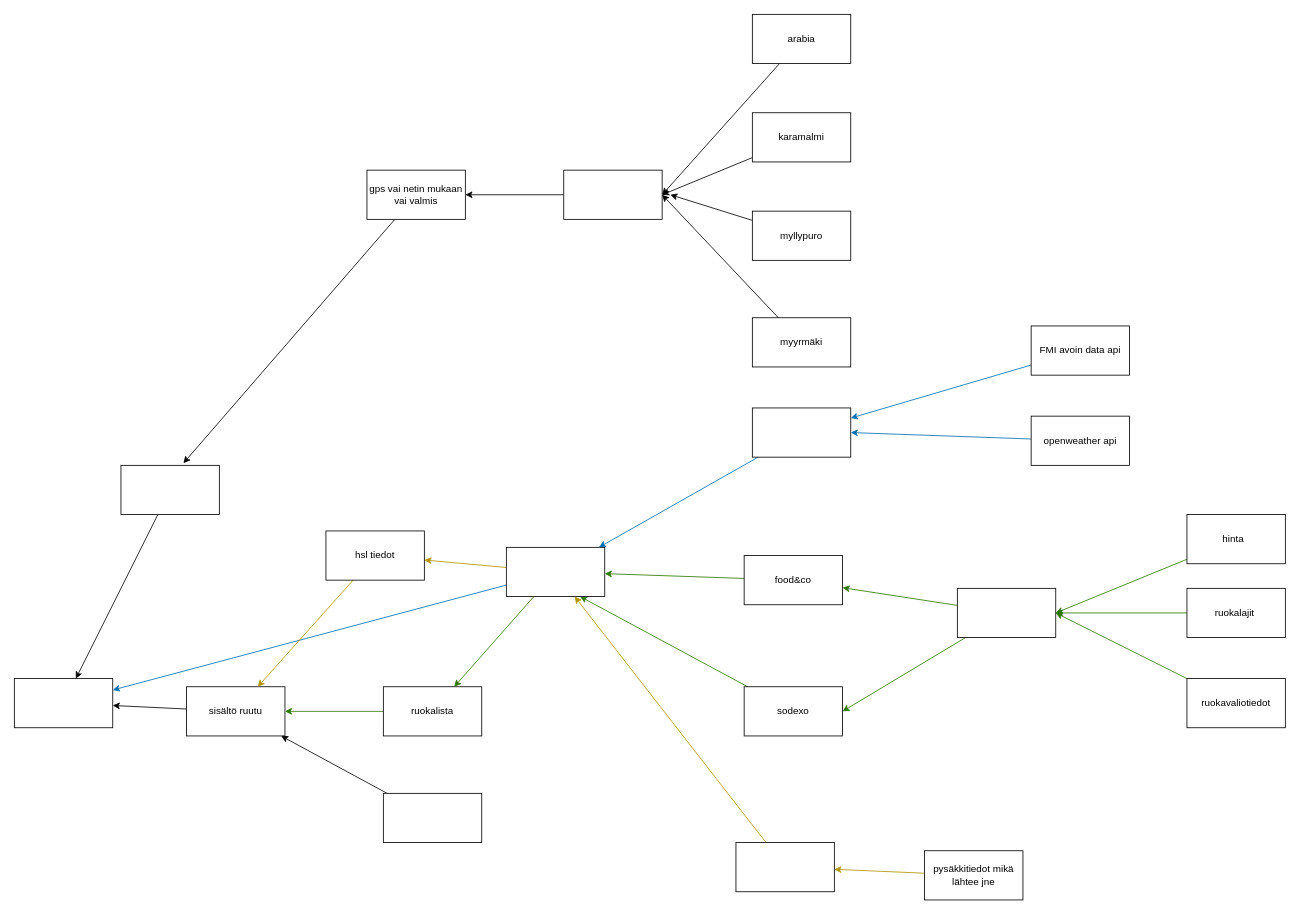
Some shapes in this 1300 by 914 pixel diagram are drawn without their labels. The centre of each missing label's shape, as x and y in pixels:
"allorigins välityspalvelin" goes at point 555,572.
"digitalsignage" goes at point 63,703.
"hsl avoin data" goes at point 784,867.
"päiväkohtainen" goes at point 1006,613.
"slidet" goes at point 432,818.
"sää" goes at point 801,432.
"toimipaikan nimi" goes at point 169,490.
"toimipaikat" goes at point 612,194.
